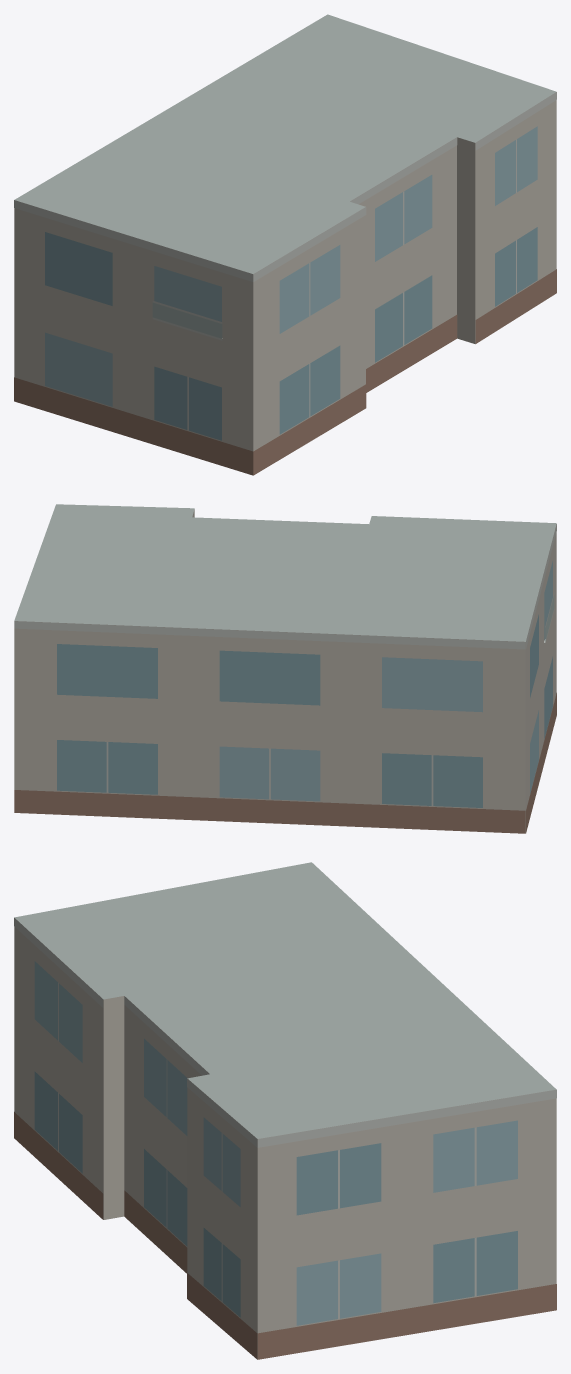
Rendered from survey-upis-32877477.glb.
3 views of the same model, one above another, from view 1: azimuth 30°, elevation 25°; view 2: azimuth 150°, elevation 25°; view 3: azimuth 270°, elevation 25° (orthographic). The views are drawn at different scales.
Visible parts, largest first — view 1: survey-upis-32877477.tmp; view 2: survey-upis-32877477.tmp; view 3: survey-upis-32877477.tmp.
Boxes of the visible parts, <box> form: survey-upis-32877477.tmp: <box>14,14,556,475</box>; survey-upis-32877477.tmp: <box>14,504,556,833</box>; survey-upis-32877477.tmp: <box>14,862,556,1359</box>.
Size of the model in its own units: 16.43 by 6.1 by 13.61.
